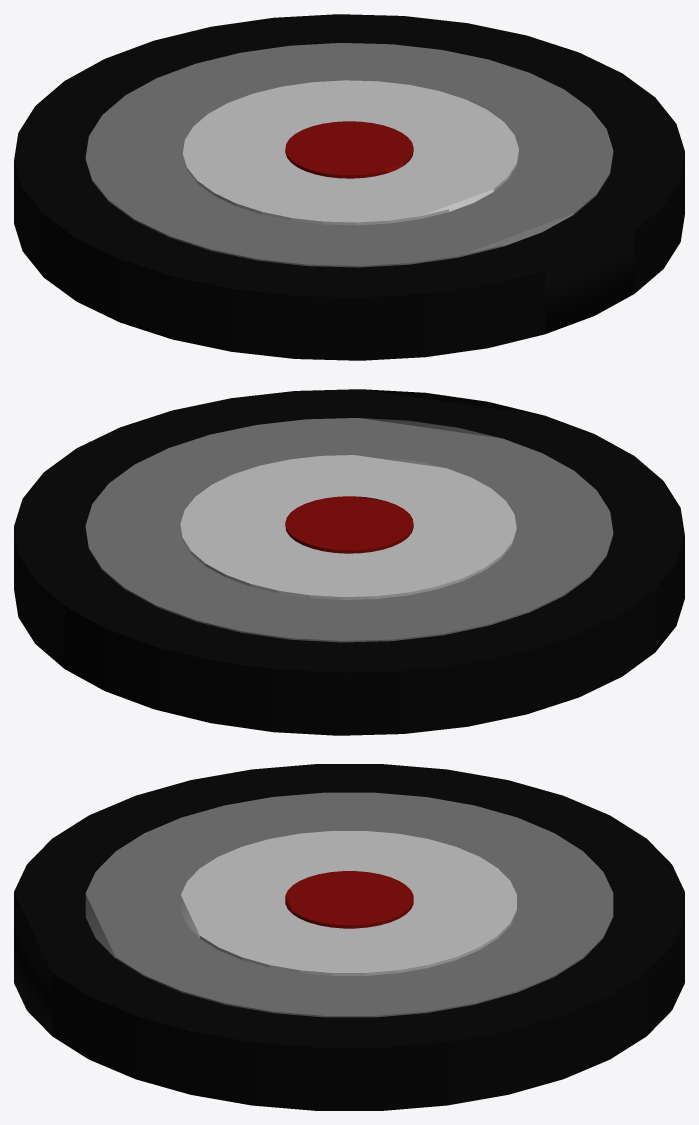
The model's file is Helipad.dae.
3 views of the same model, one above another, from view 1: azimuth 30°, elevation 25°; view 2: azimuth 150°, elevation 25°; view 3: azimuth 270°, elevation 25° (orthographic).
Visible parts, largest first — view 1: SM_Helipad_001; view 2: SM_Helipad_001; view 3: SM_Helipad_001.
Boxes of the visible parts, left/top/right/bottom form: SM_Helipad_001: left=14, top=14, right=684, bottom=360; SM_Helipad_001: left=14, top=389, right=684, bottom=735; SM_Helipad_001: left=14, top=764, right=684, bottom=1110.
Size of the model in its own units: 4.8 by 4.8 by 0.5602.
